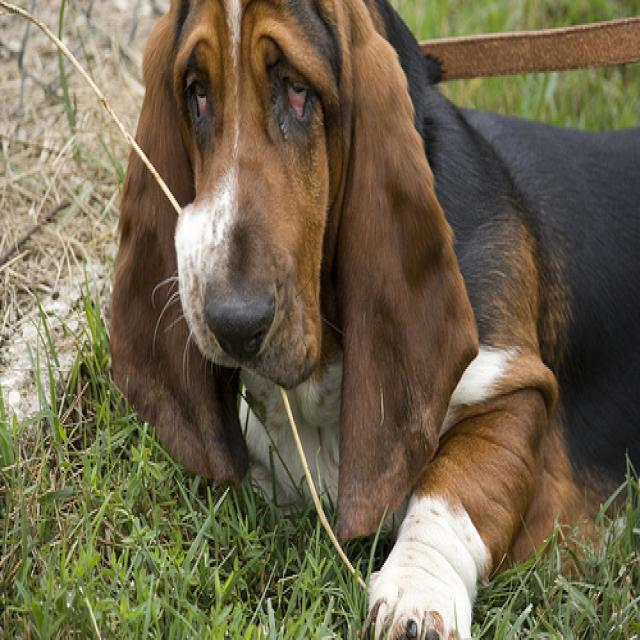dog-basset_hound: (97, 2, 637, 636)
